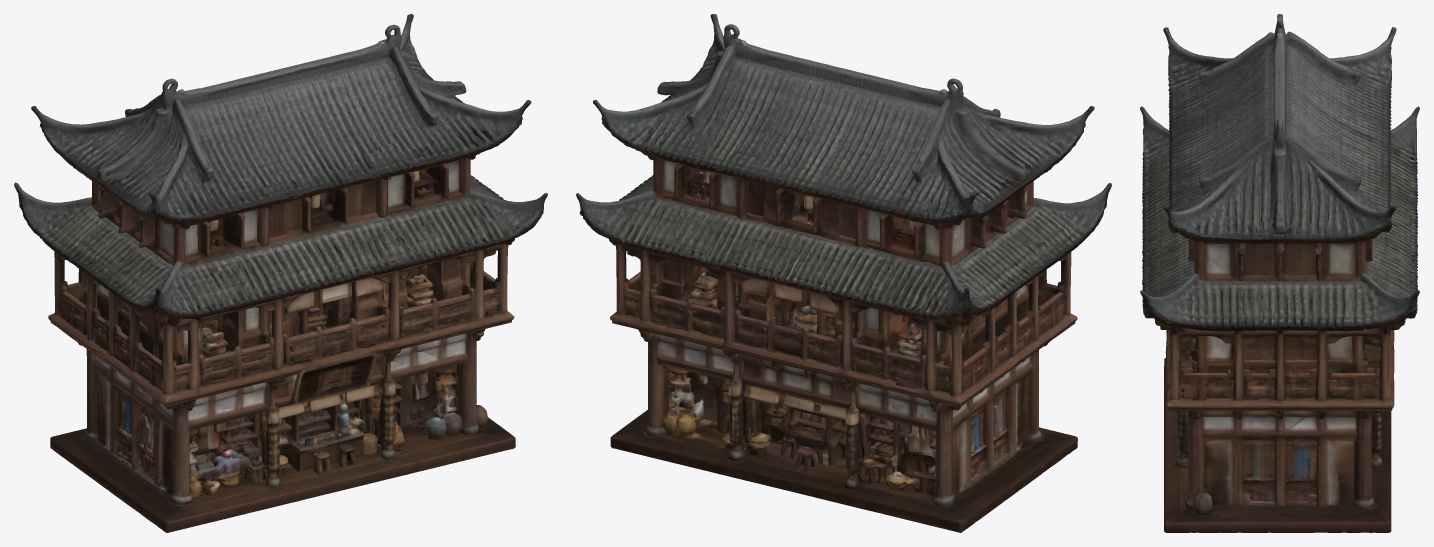
Rendered from riverside-commercial-building.glb.
The picture shows the model from 3 angles, left to right: view 1: azimuth 30°, elevation 25°; view 2: azimuth 150°, elevation 25°; view 3: azimuth 270°, elevation 25°; orthographic projection. The views are drawn at different scales.
Visible parts, largest first — view 1: world; view 2: world; view 3: world.
Part boxes in pixels (x1=…): world: x1=14, y1=14, x2=547, y2=532; world: x1=576, y1=14, x2=1111, y2=532; world: x1=1140, y1=14, x2=1419, y2=532.
Bounding box in the file's own units: 0.9818 × 0.95 × 0.6285.
Materials: 1 (1 with a texture image).
